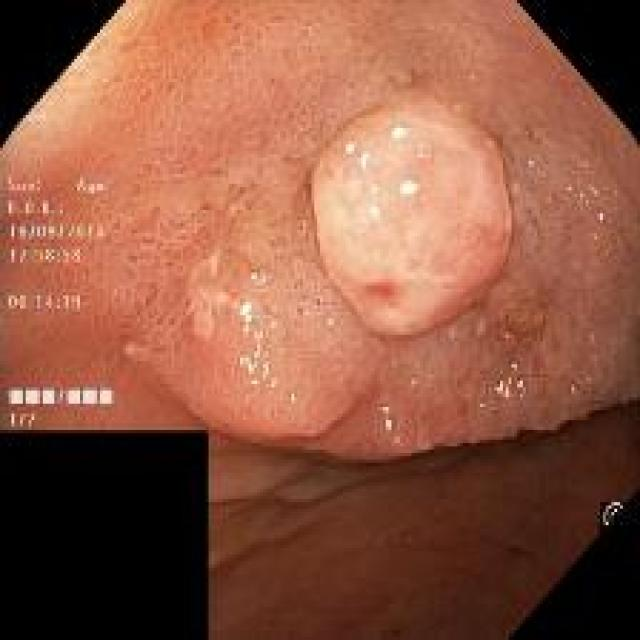Polyps: (312, 88, 512, 337)
